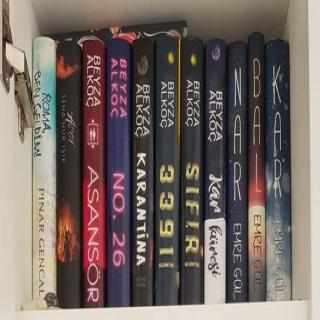book-spine: (154, 38, 182, 305), (57, 39, 83, 307), (82, 39, 107, 311), (106, 37, 131, 307), (32, 38, 57, 307), (182, 38, 206, 306), (132, 36, 155, 304), (226, 40, 249, 304), (204, 37, 226, 304), (248, 33, 266, 304)
